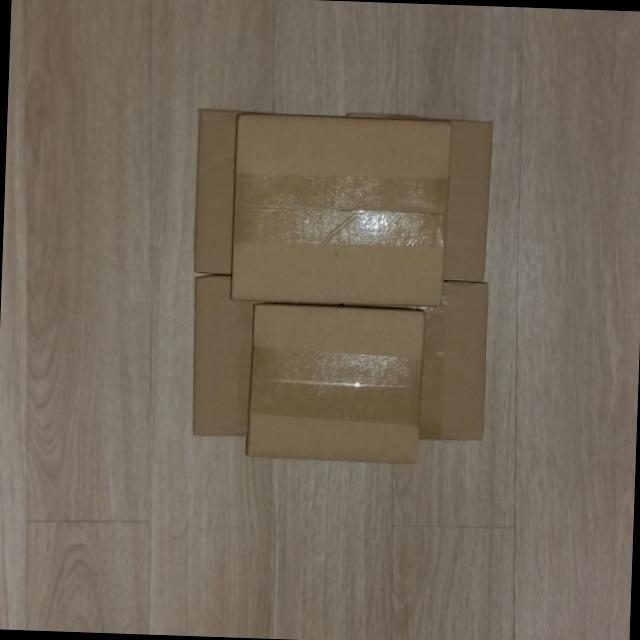box: (224, 108, 457, 312), (240, 301, 432, 467)
